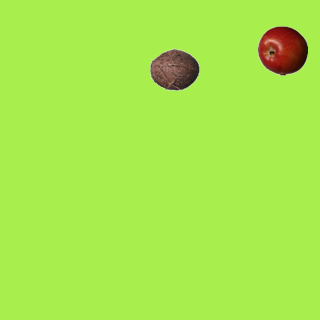Apple Braeburn: (257, 25, 307, 75)
Cocos: (149, 44, 199, 94)
